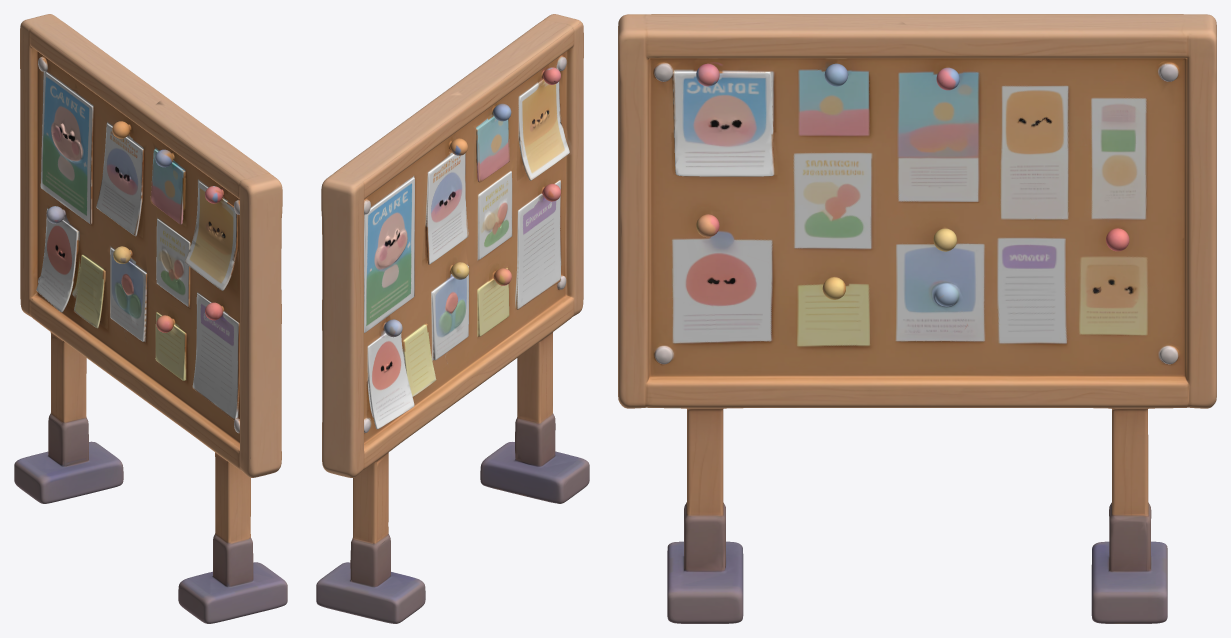
File: notice-board.glb
3 views of the same model, side by side, from view 1: azimuth 30°, elevation 25°; view 2: azimuth 150°, elevation 25°; view 3: azimuth 270°, elevation 25° (orthographic). The views are drawn at different scales.
Visible parts, largest first — view 1: node_0; view 2: node_0; view 3: node_0.
Boxes of the visible parts, bbox=[...] form: node_0: bbox=[14, 14, 287, 623]; node_0: bbox=[316, 14, 589, 623]; node_0: bbox=[618, 14, 1216, 623].
Size of the model in its own units: 0.1711 by 0.8823 by 0.828.
1 material, 1 textured.
